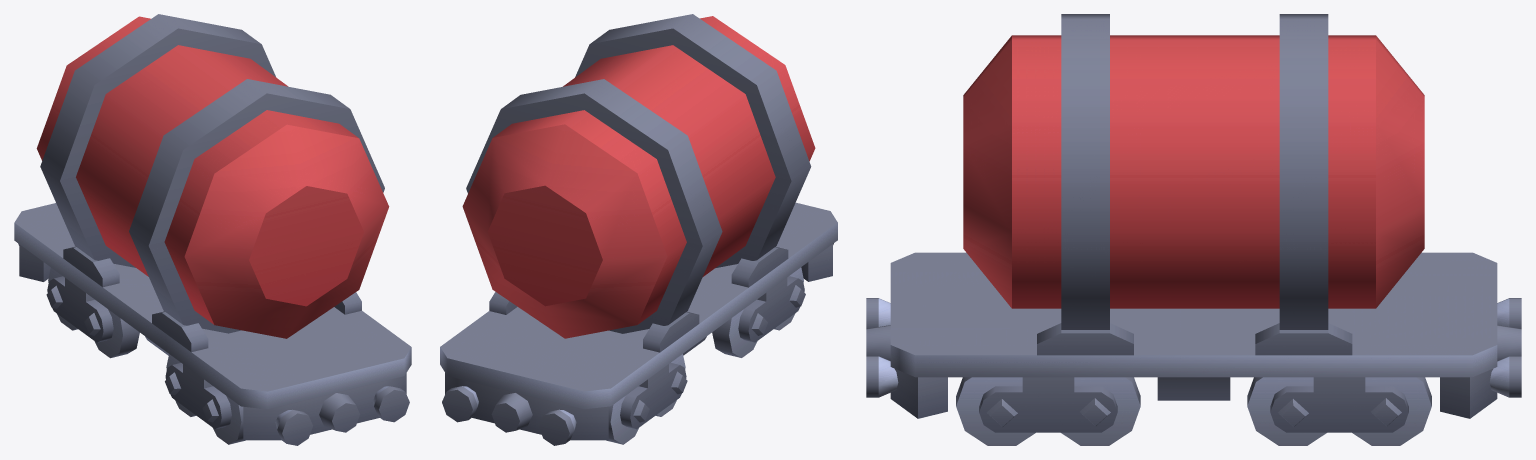
File: train-carriage-tank.glb
3 renders of one model, left to right at view 1: azimuth 30°, elevation 25°; view 2: azimuth 150°, elevation 25°; view 3: azimuth 270°, elevation 25°, orthographic. The views are drawn at different scales.
Visible parts, largest first — view 1: train-carriage-tank; view 2: train-carriage-tank; view 3: train-carriage-tank.
Boxes of the visible parts, x1=… form: train-carriage-tank: x1=14, y1=14, x2=411, y2=445; train-carriage-tank: x1=440, y1=14, x2=837, y2=445; train-carriage-tank: x1=866, y1=14, x2=1521, y2=445.
Bounding box in the file's own units: 1.39 × 1.75 × 2.7.
Materials: 1 (1 with a texture image).
